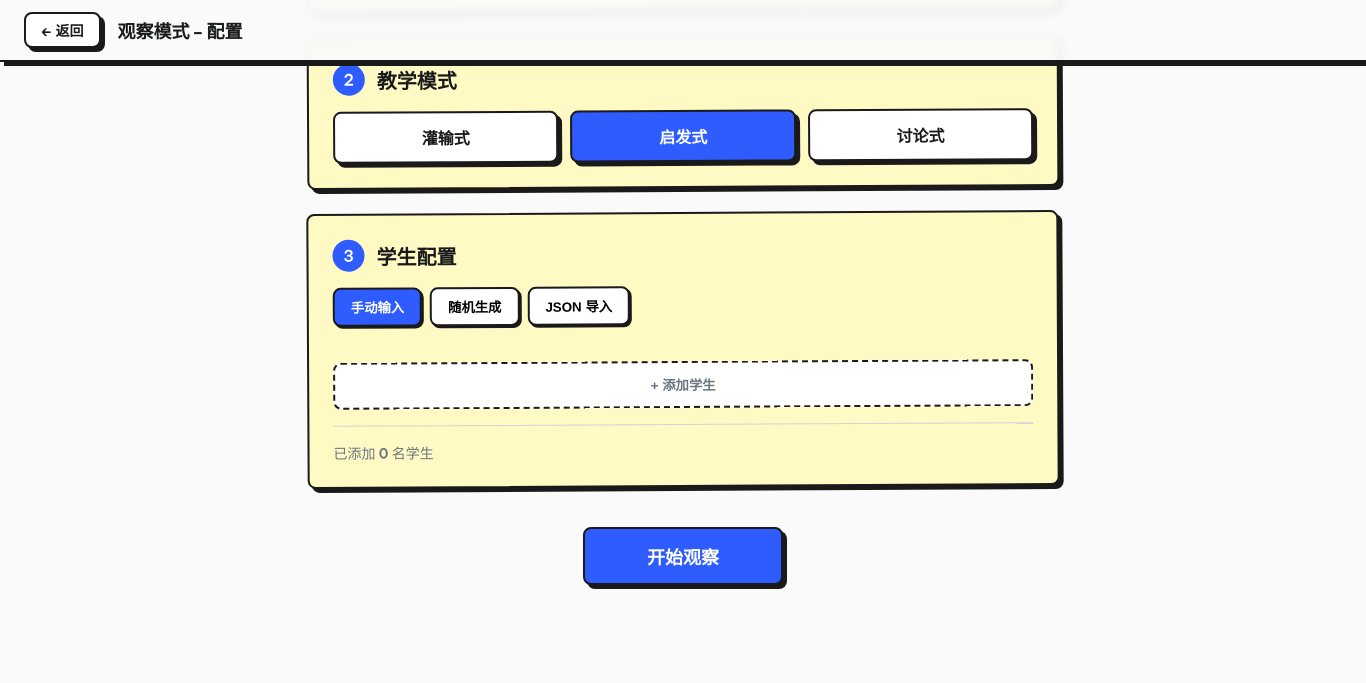
Test: ObservationConfig › Tab switching › preserves students when switching tabs
(page scrolled)
Note: Add a student in manual mode
Click the button "+ 添加学生" at (683, 385), box [333,359,1033,410]
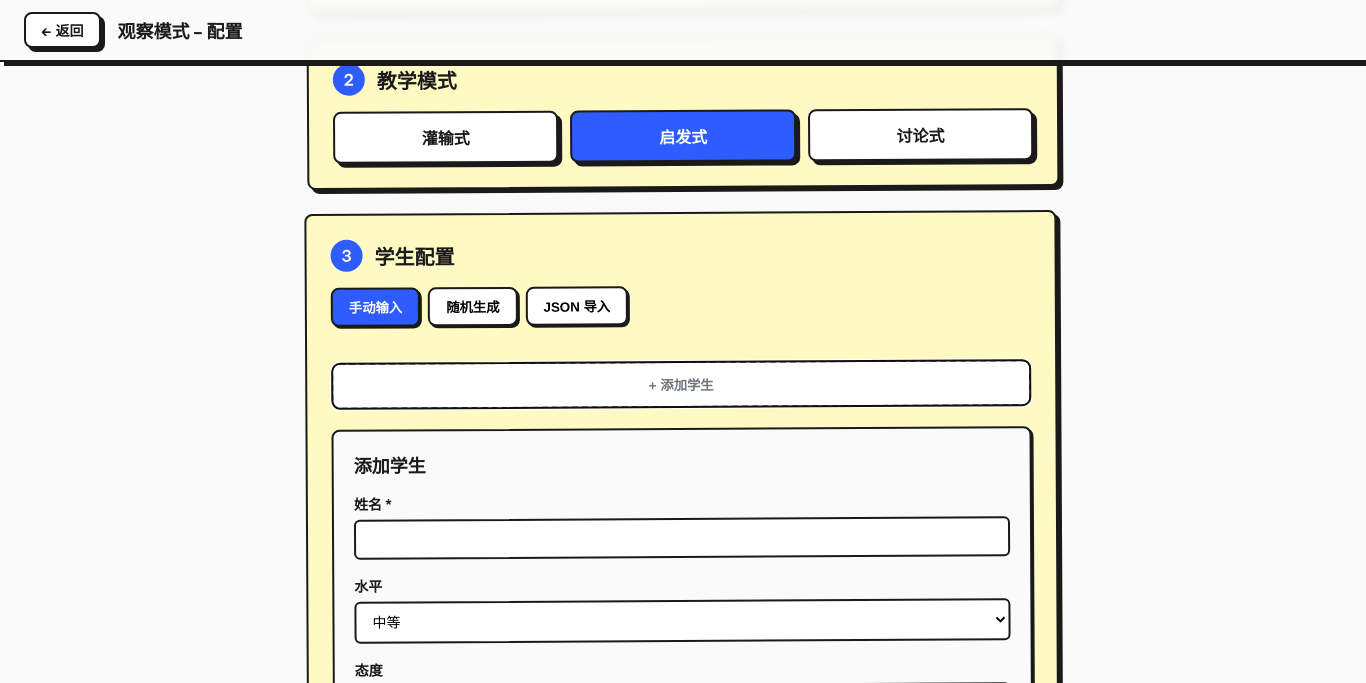
Check: the heading "添加学生" is shown, box [354,454,426,477]
Type "张三" into the field labelled "姓名 *" at (682, 538), box [354,516,1010,560]
(page scrolled)
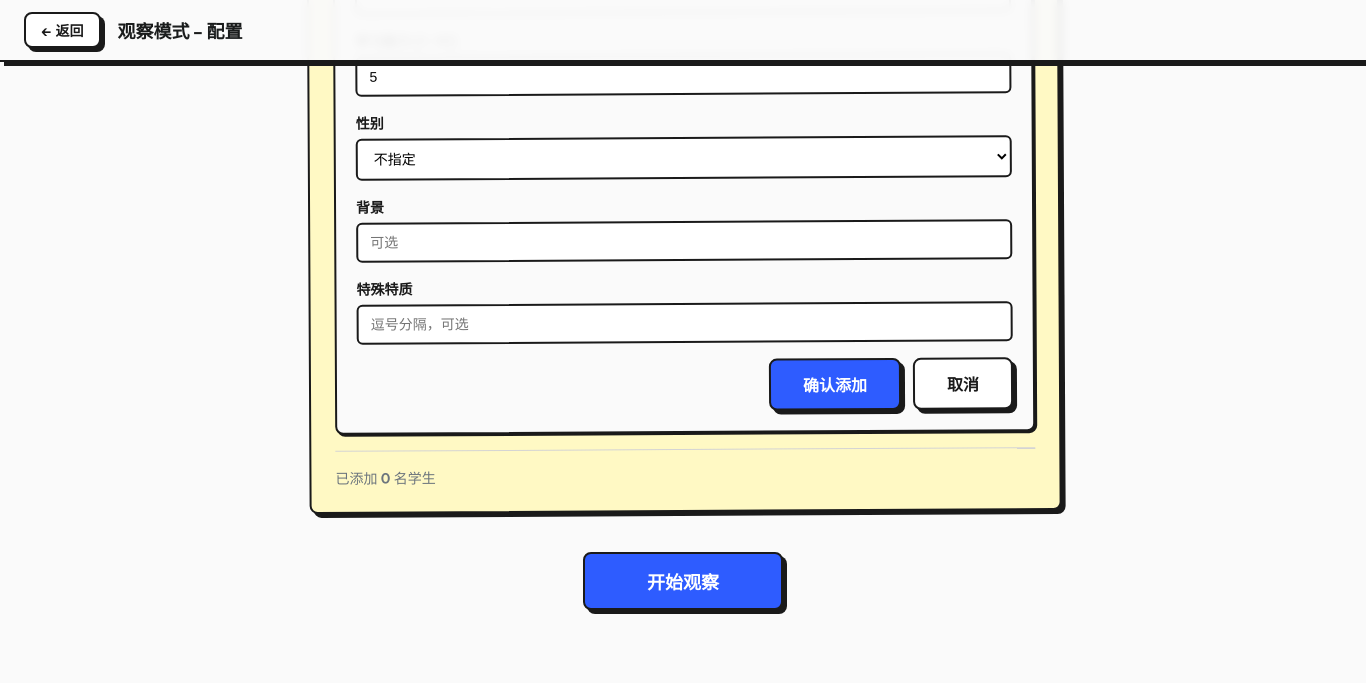
Click the button "确认添加" at (835, 384), box [769,358,901,411]
(page scrolled)
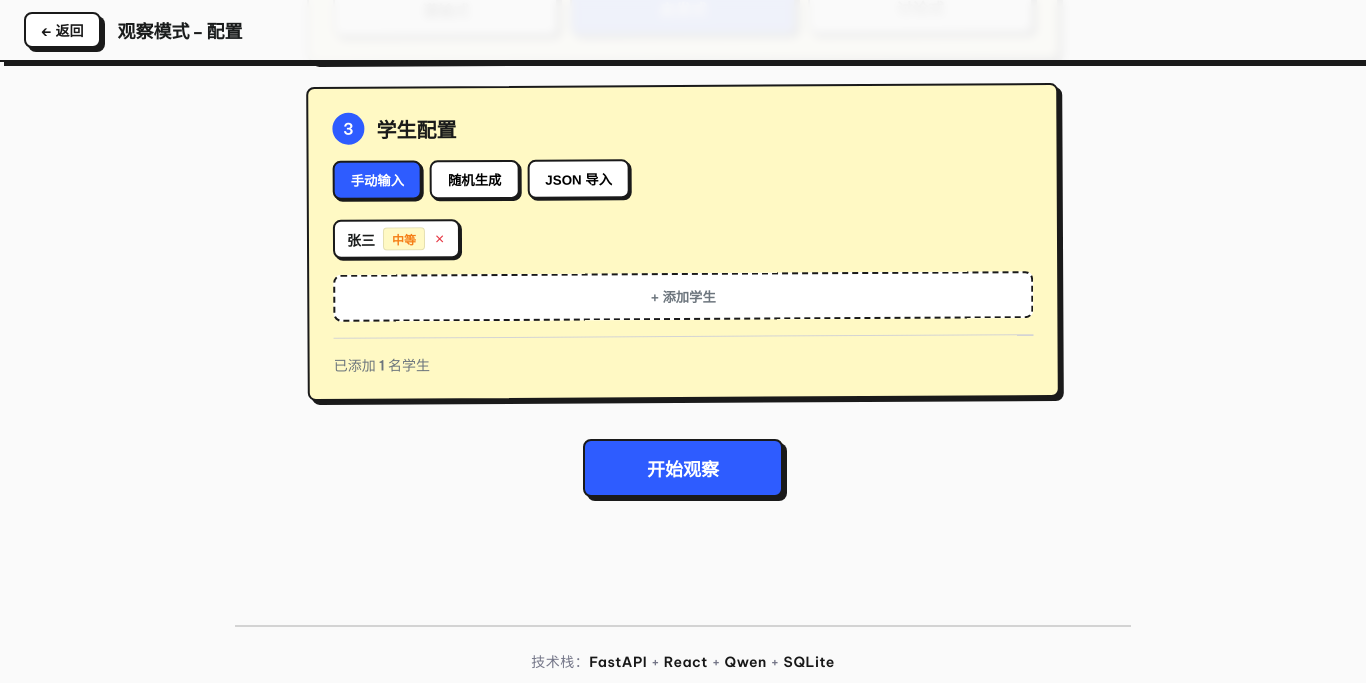
Note: Switch to random and back
Click the button "随机生成" at (475, 180), box [430,160,519,200]
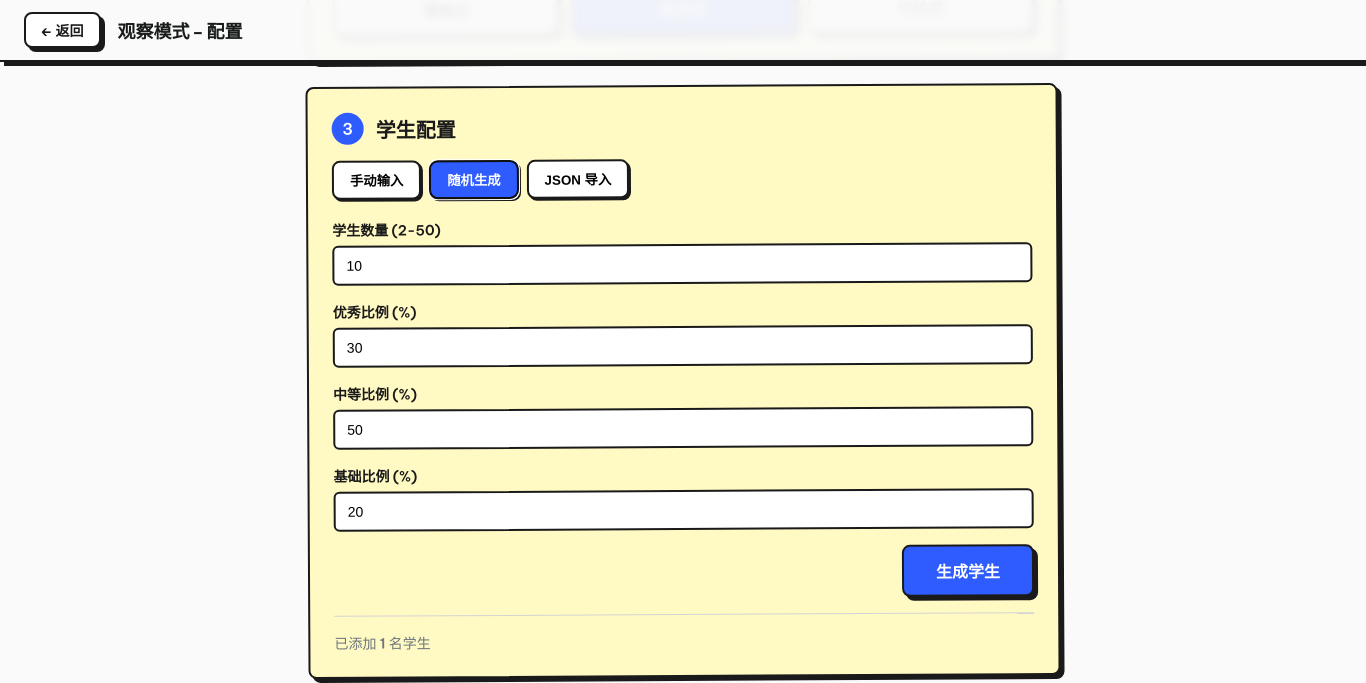
Click the button "手动输入" at (377, 180), box [332,160,421,200]
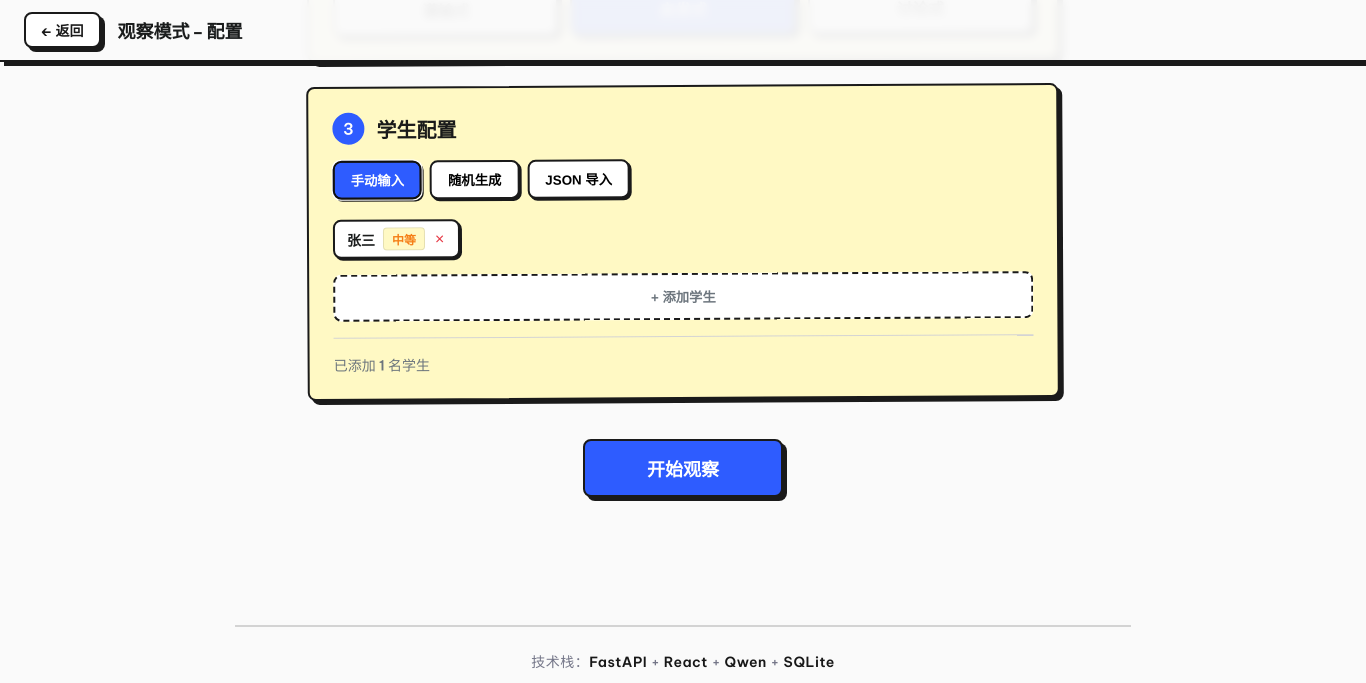
Check: the text "张三" is shown, box [347,229,375,249]
